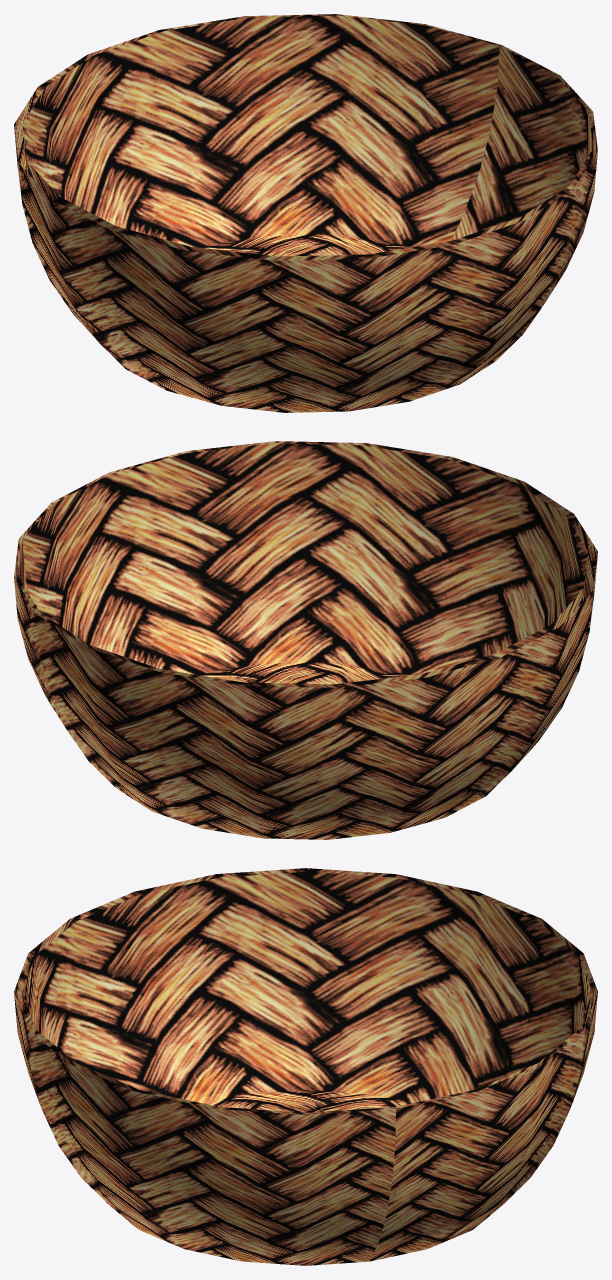
Rendered from Player.fbx.
The picture shows the model from 3 angles, top to bottom: view 1: azimuth 30°, elevation 25°; view 2: azimuth 150°, elevation 25°; view 3: azimuth 270°, elevation 25°; orthographic projection.
Visible parts, largest first — view 1: pSphere1, pasted__pSphere1; view 2: pSphere1, pasted__pSphere1; view 3: pSphere1, pasted__pSphere1.
Boxes of the visible parts, x1,y1,x2,y2 form: pSphere1: (22,15,592,260); pasted__pSphere1: (14,14,597,412); pSphere1: (17,443,587,687); pasted__pSphere1: (14,441,597,839); pSphere1: (22,871,592,1114); pasted__pSphere1: (14,868,597,1265).
Bounding box in the file's own units: 0.6795 × 0.2408 × 0.6795.
